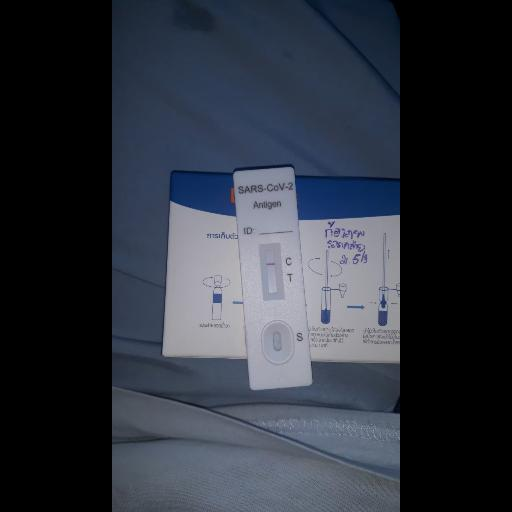Neg: (233, 165, 315, 391)
